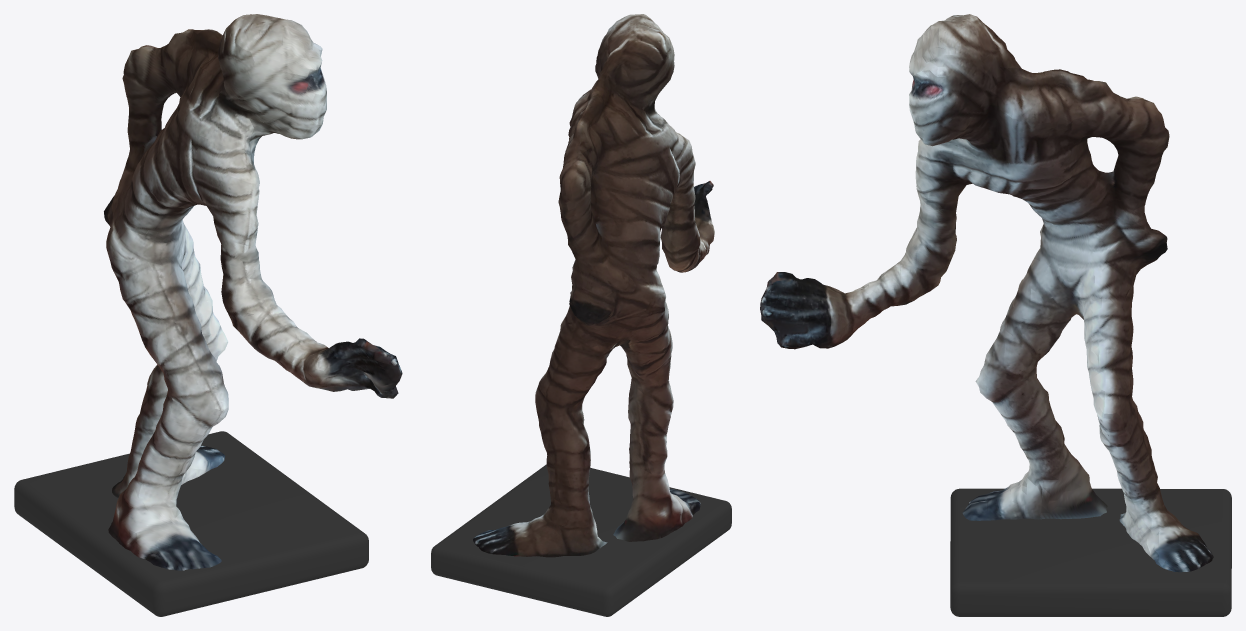
Rendered from mummy.gltf.
3 renders of one model, left to right at view 1: azimuth 30°, elevation 25°; view 2: azimuth 150°, elevation 25°; view 3: azimuth 270°, elevation 25°, orthographic. The views are drawn at different scales.
Parts seen in each view (by area): view 1: Object_2, Object_3; view 2: Object_2, Object_3; view 3: Object_2, Object_3.
Boxes of the visible parts, <box> form: Object_2: <box>104,14,402,570</box>; Object_3: <box>14,431,368,616</box>; Object_2: <box>473,14,714,557</box>; Object_3: <box>431,464,731,616</box>; Object_2: <box>760,14,1213,572</box>; Object_3: <box>950,488,1231,616</box>.
Bounding box in the file's own units: 1.27 × 3.26 × 2.53.
Materials: 2 (1 with a texture image).
